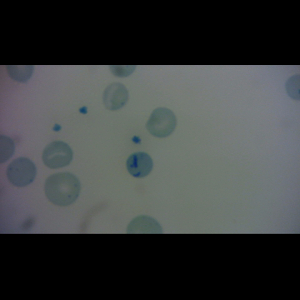aggregate reticulocyte: (125, 151, 155, 179)
erythrocyte: (144, 107, 178, 139), (41, 140, 74, 170)
punctate reticulocyte: (42, 171, 82, 207), (4, 156, 38, 189), (101, 82, 130, 112)
